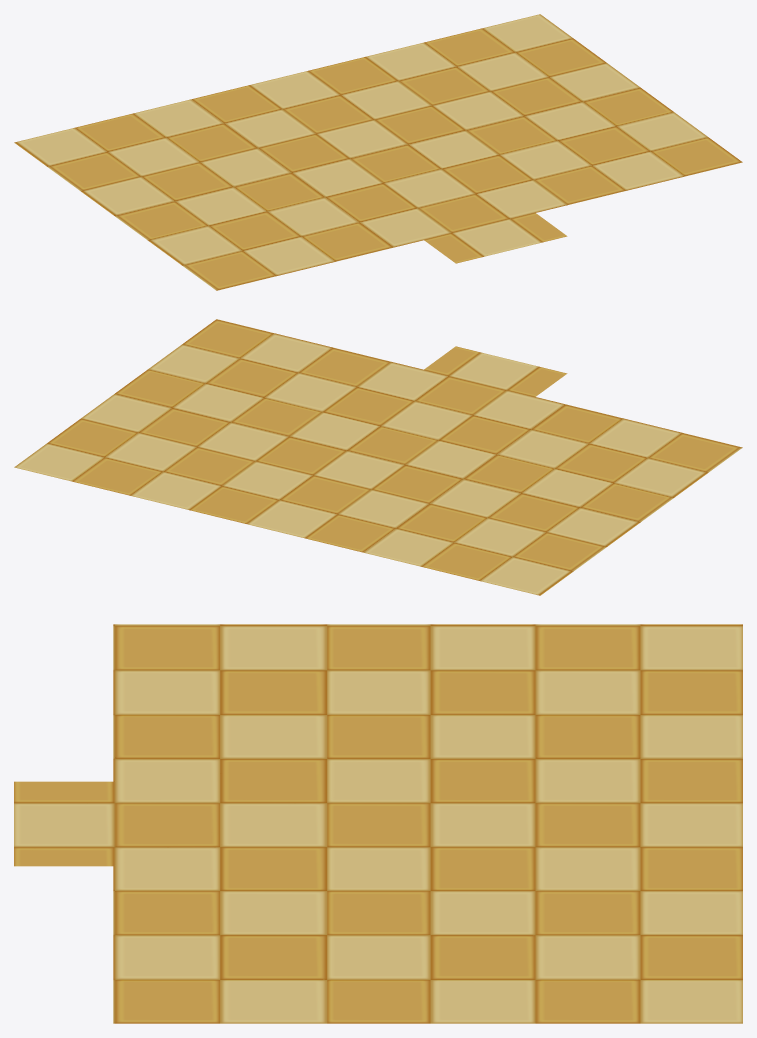
File: Floor03_c01.FBX
The picture shows the model from 3 angles, top to bottom: view 1: azimuth 30°, elevation 25°; view 2: azimuth 150°, elevation 25°; view 3: azimuth 270°, elevation 25°; orthographic projection. The views are drawn at different scales.
Parts seen in each view (by area): view 1: Floor03_c01; view 2: Floor03_c01; view 3: Floor03_c01.
Part boxes in pixels (x1,y1,x2,y2): Floor03_c01: (14, 14, 742, 290); Floor03_c01: (14, 319, 742, 595); Floor03_c01: (14, 624, 742, 1023).
Bounding box in the file's own units: 900 × 0.000446 × 695.
1 material, 1 textured.
